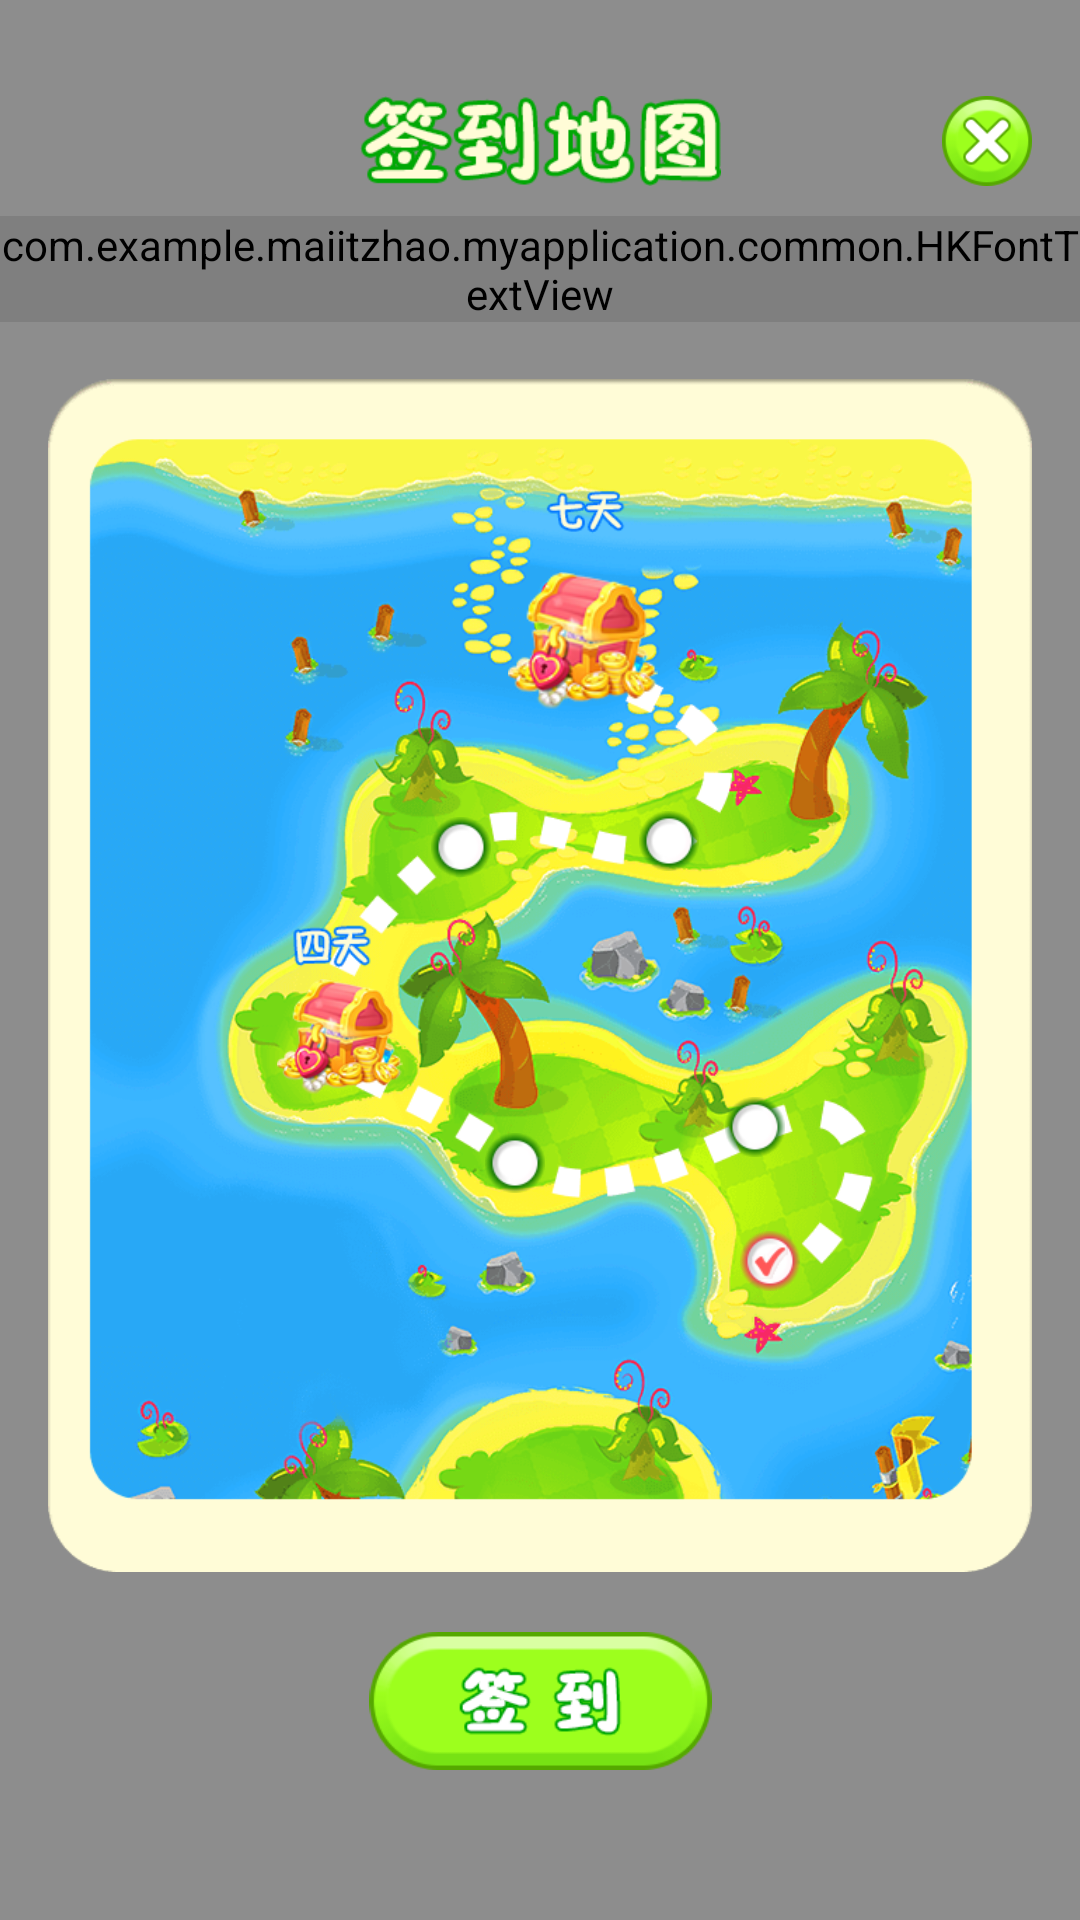

Named icons in this screenshot (1080px x 1920px) and their centers, (x,y):
already sign: (770,1261)
sign map close: (987,141)
sign reward: (583,641), (340,1037)
